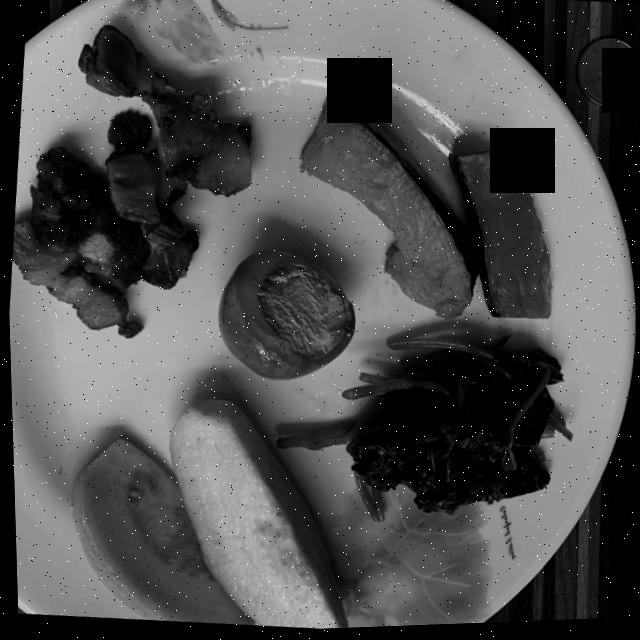coin: (576, 42, 640, 111)
grilled pork: (10, 26, 250, 338)
guava -sliced-: (69, 401, 344, 631)
pumpkin: (300, 98, 550, 322)
soy egg: (216, 251, 352, 381)
sweet potato leaves: (274, 340, 569, 522)
